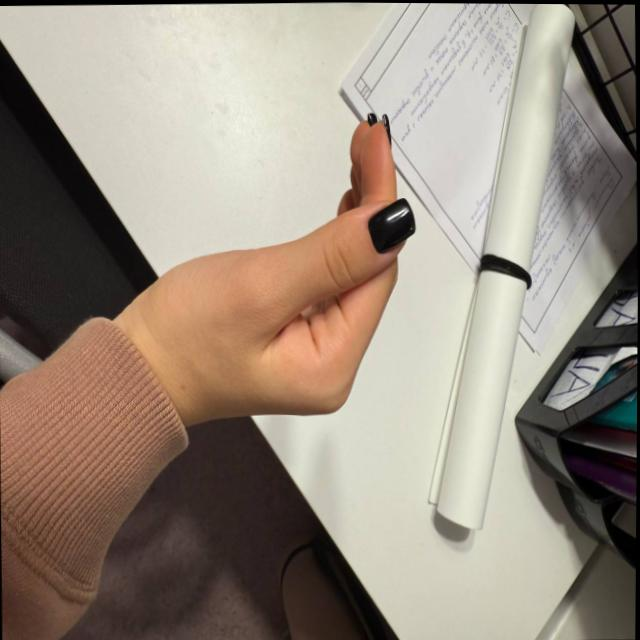f: (155, 98, 428, 479)
